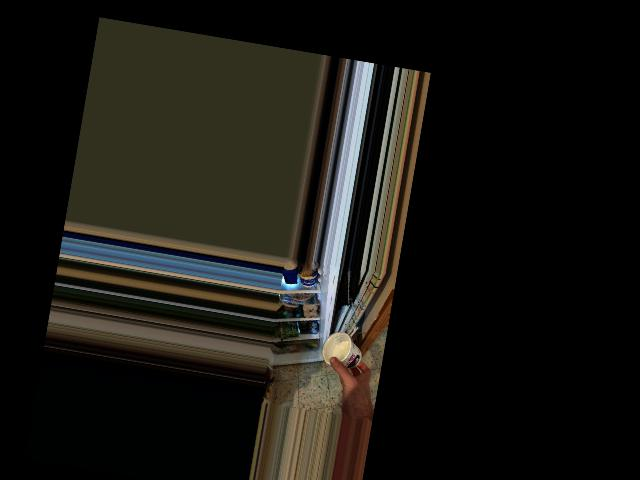cotage: (319, 329, 367, 373)
